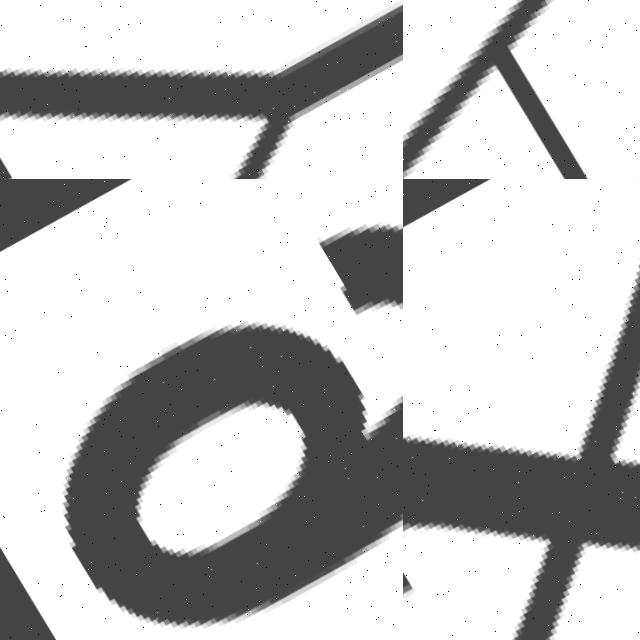9: (0, 179, 403, 640)
A: (403, 0, 640, 179)
X: (403, 179, 640, 640)
Y: (0, 0, 403, 179)
